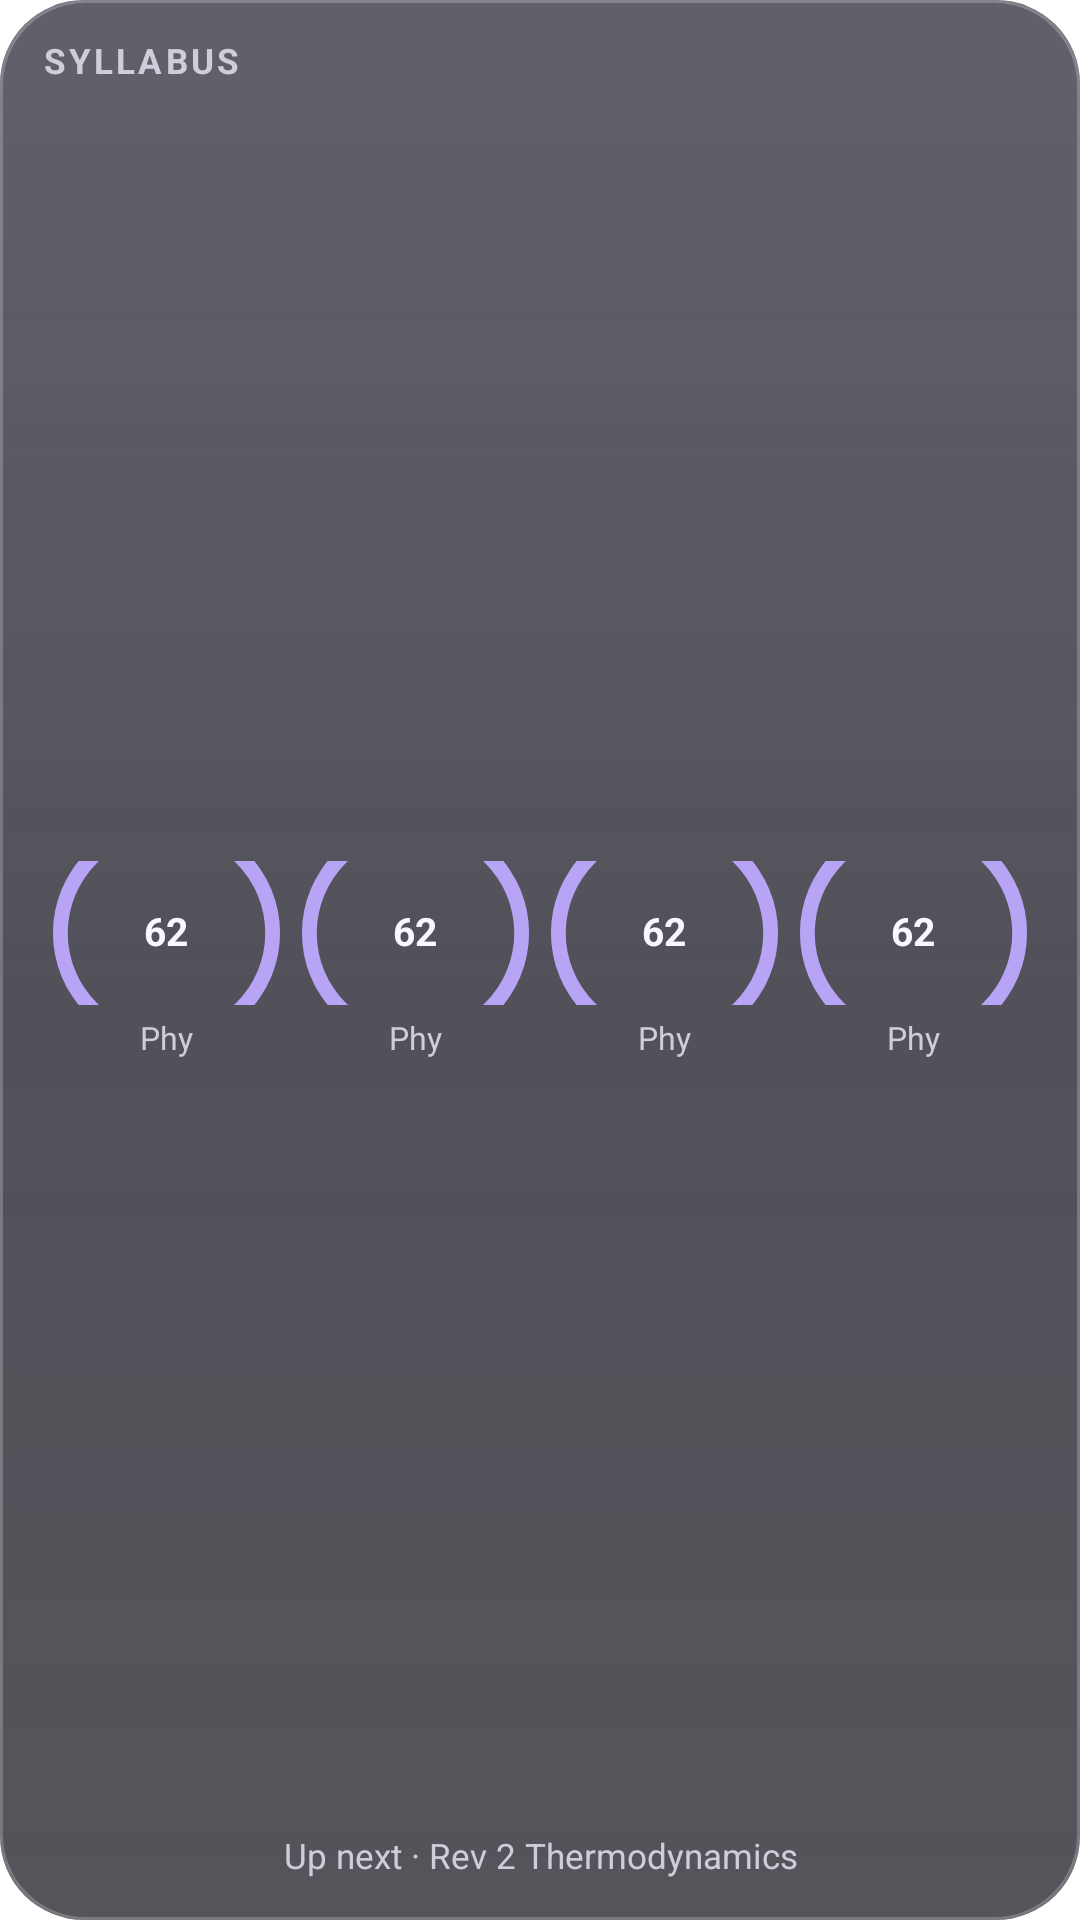

Screen size 1080 x 1920. Icon name, then its box in pixels as [x1,y1,x2,y2]:
widget ring: [53,861,280,1005], [302,861,529,1005], [551,861,778,1005], [800,861,1027,1005]
